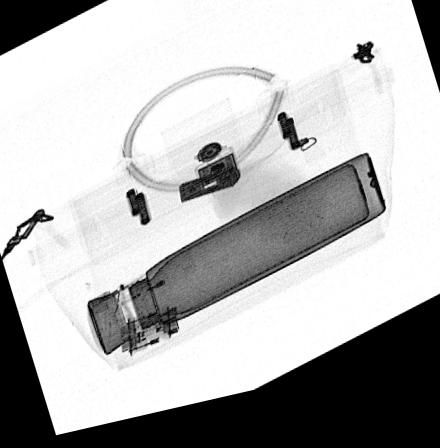Lighter: (113, 253, 197, 310)
